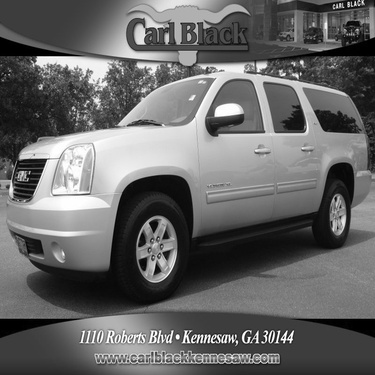car: (6, 68, 370, 306)
